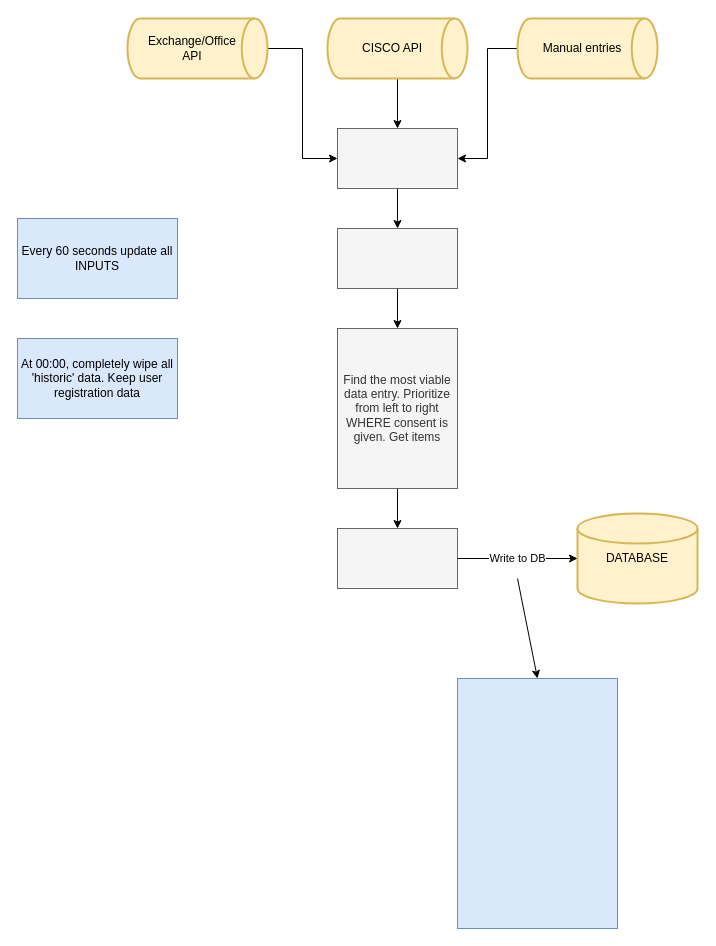
Image size: 716x946. Some labels were removed from this diagram. The shapes that lost their labels are listed below. From the top down, each one's centre as x and y in pixels, then its label:
At [397,158]: "Check consent status".
At [397,258]: "All non-consented data is immediately removed".
At [397,558]: "Deduplicate entries".
At [537,803]: "Write the following data: Last updated Is in office bool Floor".
